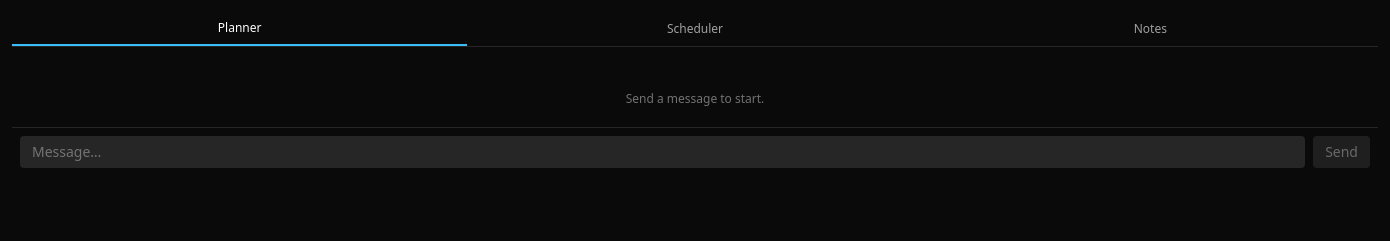
Test case: ChatPanel › sends the message to the selected agent and shows the agent's reply with why? buttons
Click the tab "Scheduler" at (695, 29), box [467,12,923,46]
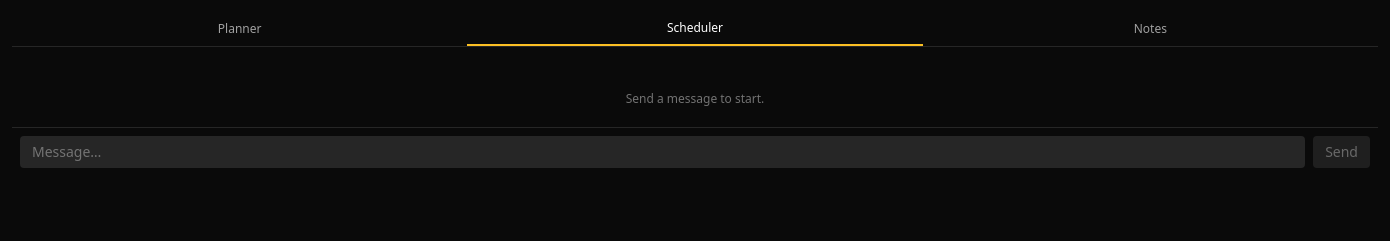
Type "book the venue" into the field named "Message scheduler" at (663, 152), box [20,136,1305,168]
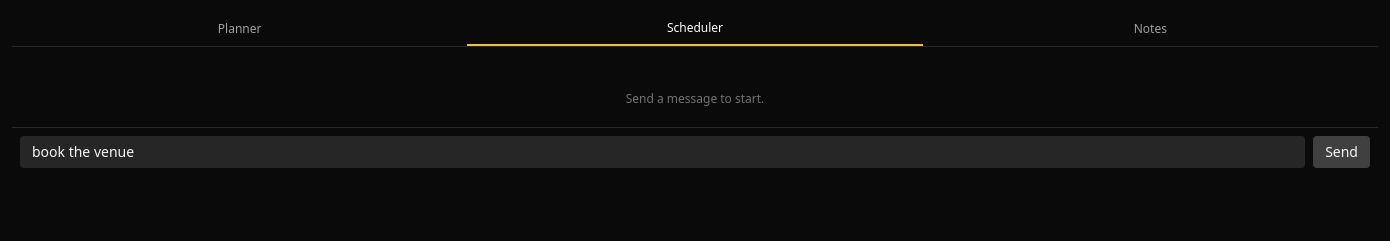
Click the button "Send" at (1342, 152), box [1313,136,1370,168]
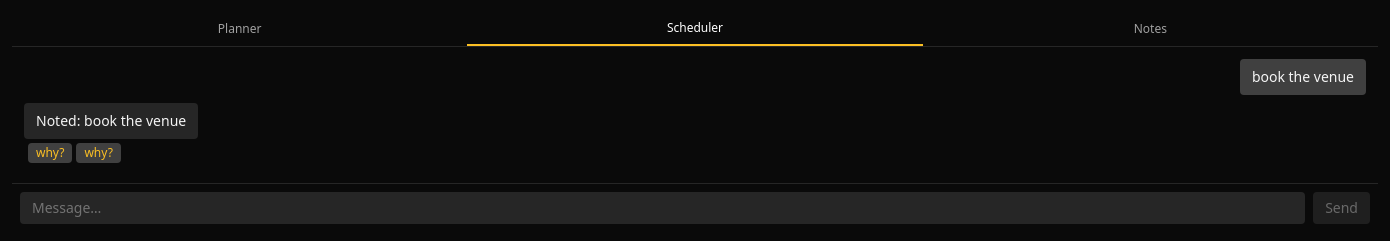
Now the text "Noted: book the venue" is shown, box [24,103,198,139]
Now the number of buttons "why?" is 2, box [28,143,72,163]; [76,143,121,163]
Now the text "book the venue" is shown, box [1240,59,1366,95]
